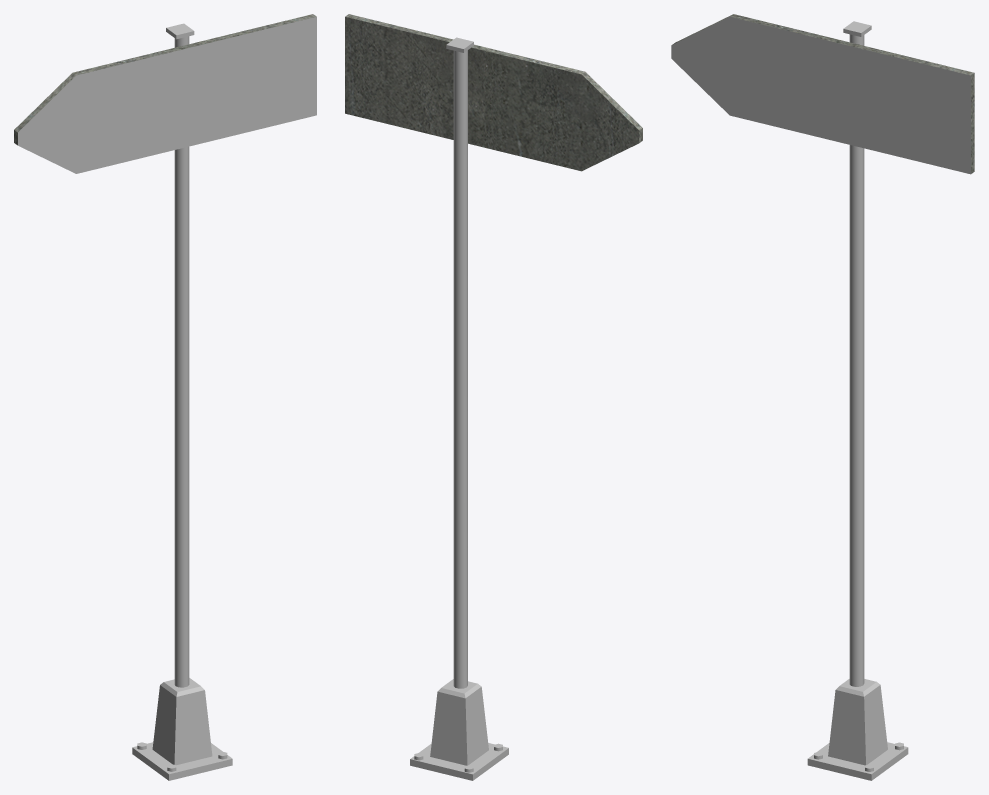
File: DT_Sign_post_type0404.fbx
The picture shows the model from 3 angles, left to right: view 1: azimuth 30°, elevation 25°; view 2: azimuth 150°, elevation 25°; view 3: azimuth 330°, elevation 25°; orthographic projection.
Parts seen in each view (by area): view 1: DT_Sign_post_type0404; view 2: DT_Sign_post_type0404; view 3: DT_Sign_post_type0404.
Part boxes in pixels (<box>): DT_Sign_post_type0404: <box>14,14,316,780</box>; DT_Sign_post_type0404: <box>345,14,642,780</box>; DT_Sign_post_type0404: <box>671,14,974,780</box>.
Size of the model in its own units: 113 by 264 by 24.11.
